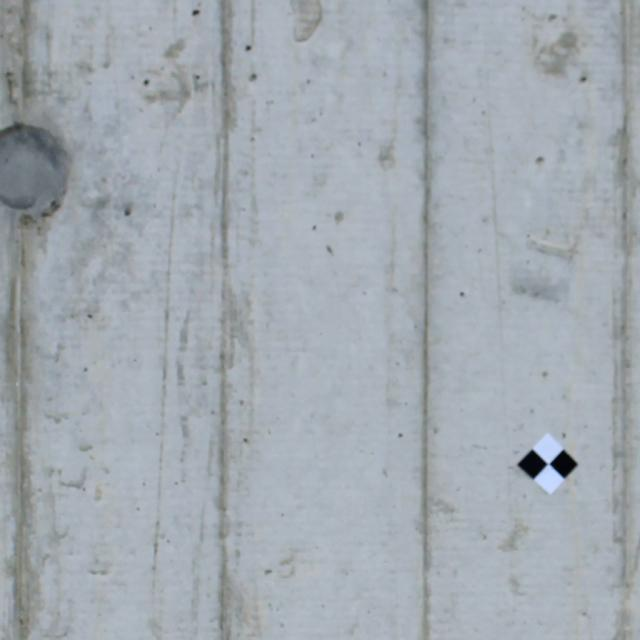D10: (2, 122, 73, 217)
